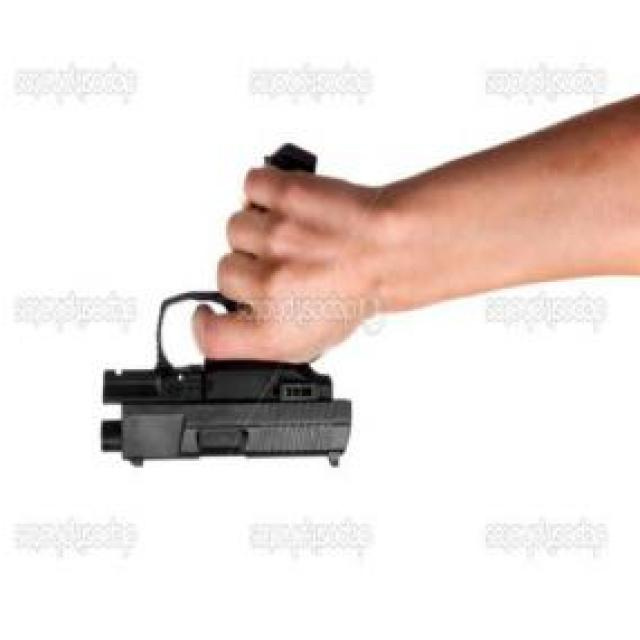pistol: (88, 134, 358, 483)
